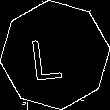L_N: (37, 28, 73, 82)
